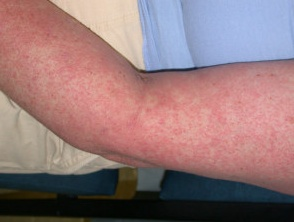SJS-TEN: (0, 0, 288, 222)
